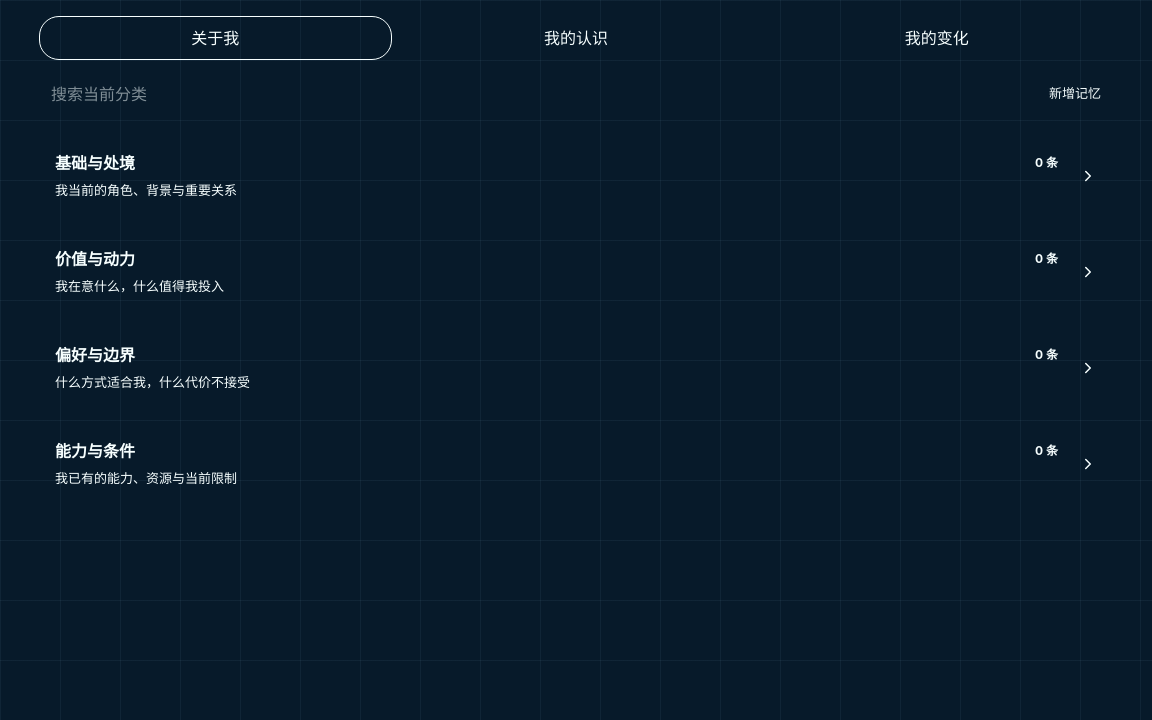
Test: explains a retained pattern after its original experience was deleted without exposing unavailable evidence
The image size is (1152, 720).
Click the button "我的认识" at (576, 38), box [400,16,752,60]
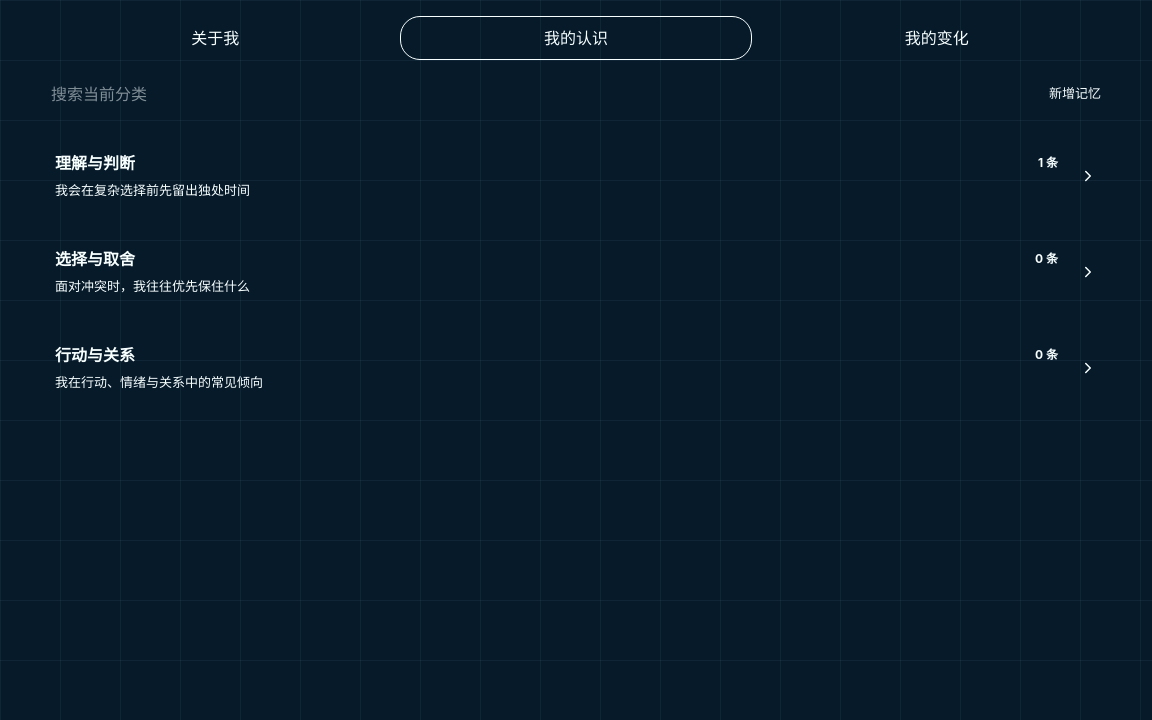
Click the button "理解与判断 1 条 我会在复杂选择前先留出独处时间" at (95, 163), box [39,132,1113,220]
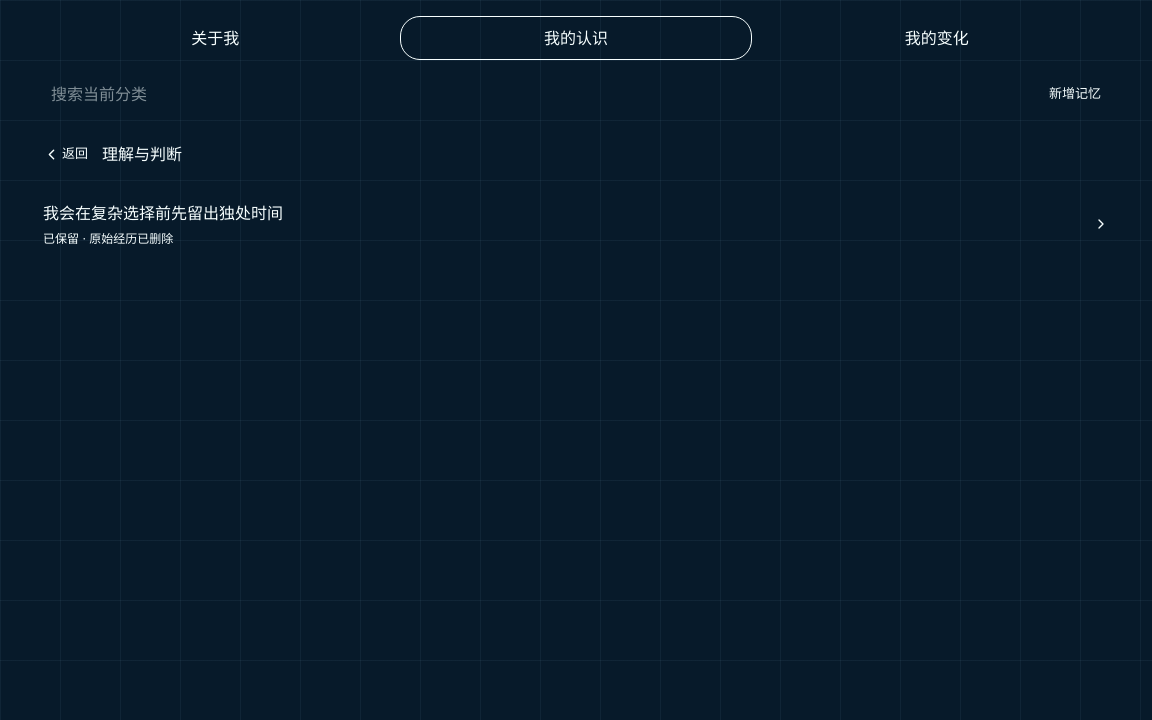
Result: the text "已保留 · 原始经历已删除" is shown at [43,231,173,246]
Click the button "我会在复杂选择前先留出独处时间 已保留 · 原始经历已删除" at (163, 213), box [39,180,1113,268]
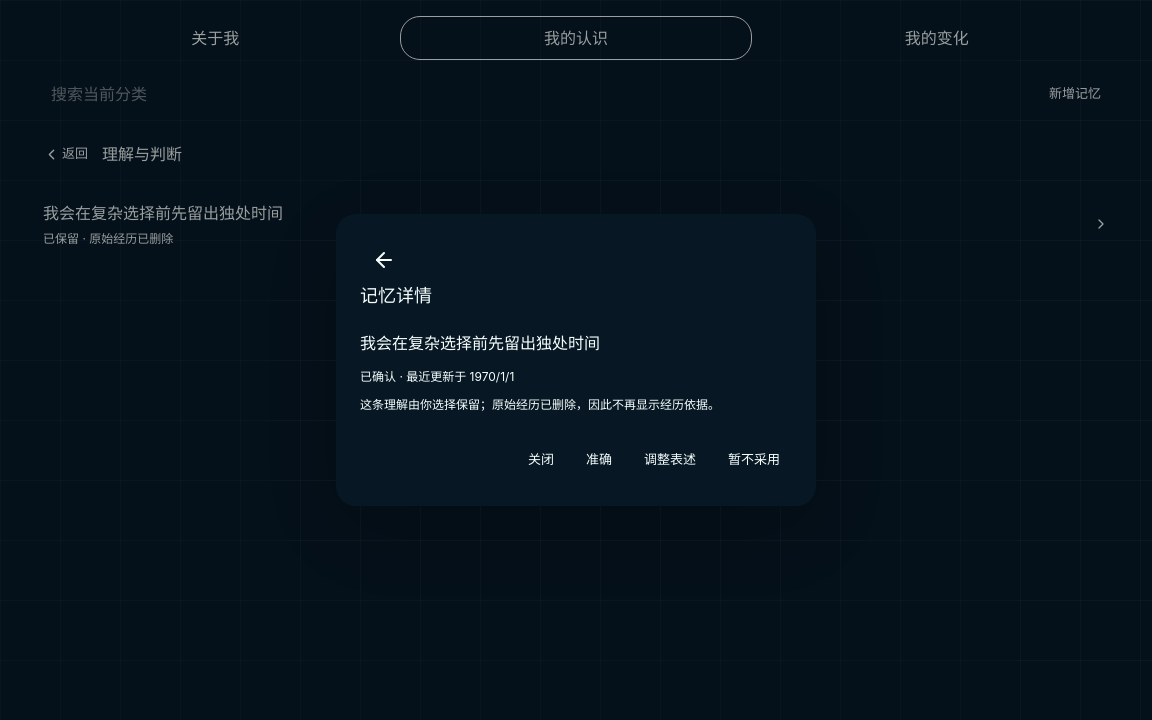
Result: the text "这条理解由你选择保留；原始经历已删除，因此不再显示经历依据。" is shown at [360,397,720,412]
Result: the button "调整表述" is shown at [632,438,708,482]
